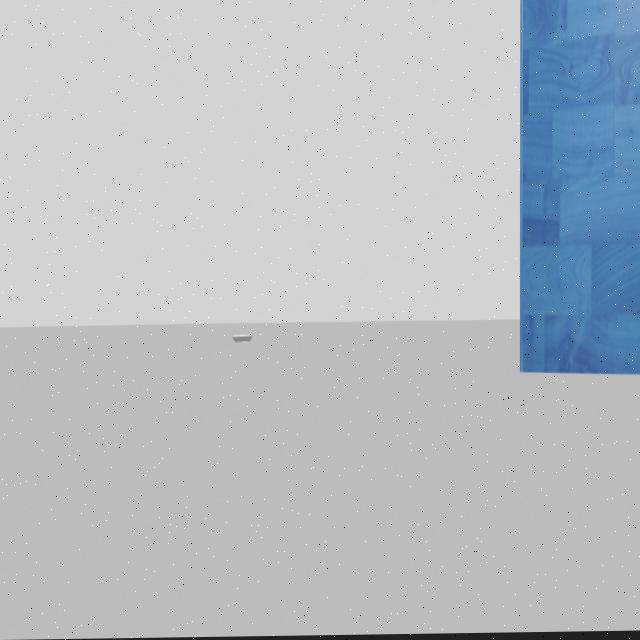bowl: (228, 322, 258, 356)
shelf: (513, 0, 640, 393)
